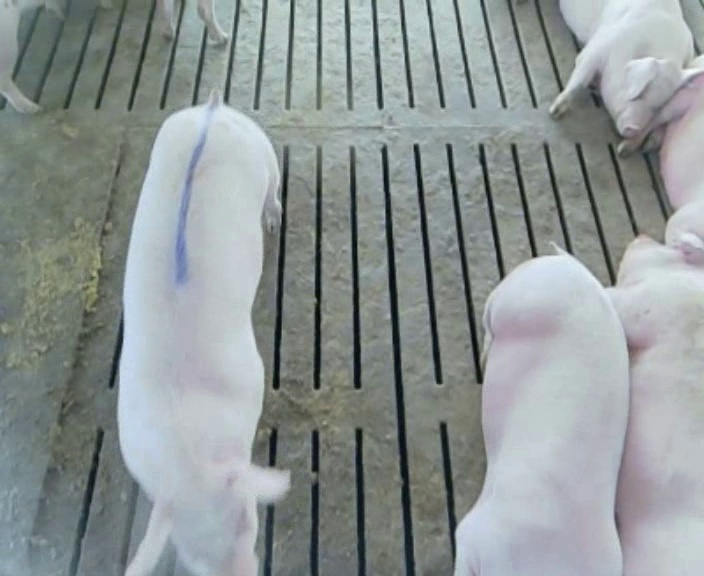pig: (119, 93, 289, 574), (456, 255, 627, 573), (549, 2, 703, 137)
